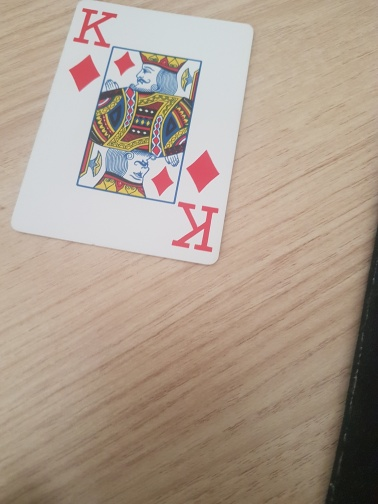king: (11, 1, 253, 263)
